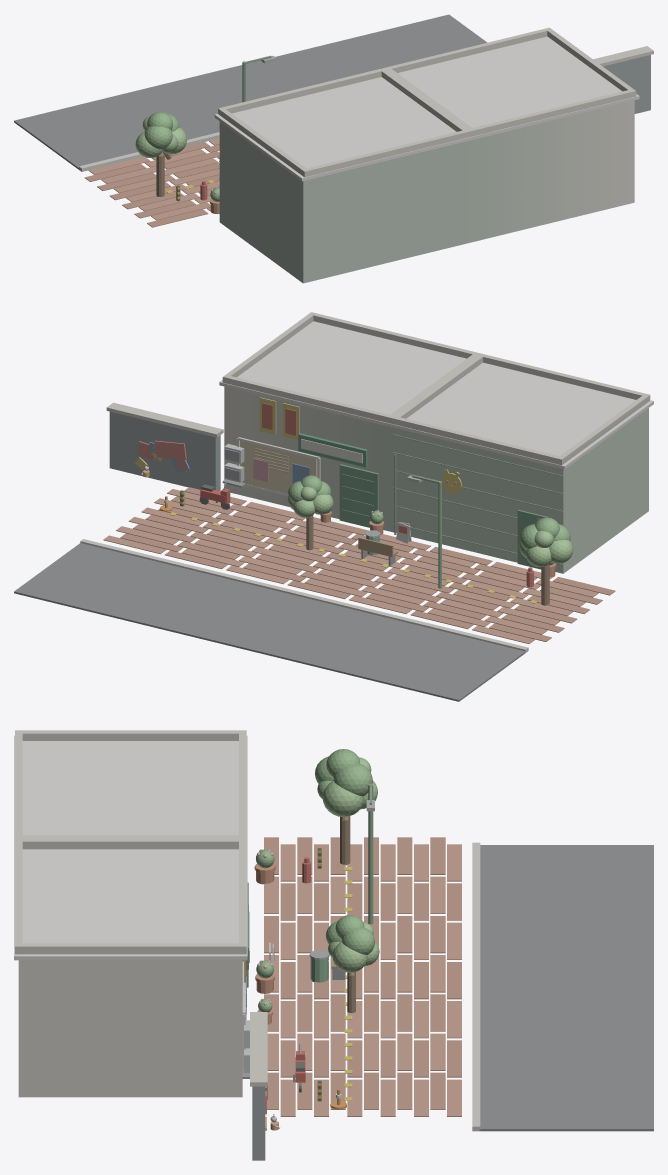
Rendered from bbq_08.glb.
3 renders of one model, top to bottom at view 1: azimuth 30°, elevation 25°; view 2: azimuth 150°, elevation 25°; view 3: azimuth 270°, elevation 25°, orthographic. The views are drawn at different scales.
Parts seen in each view (by area): view 1: geometry_0; view 2: geometry_0; view 3: geometry_0.
Part boxes in pixels (x1,y1,x2,y2): geometry_0: (14, 14, 653, 283); geometry_0: (14, 312, 653, 701); geometry_0: (14, 730, 653, 1160).
Bounding box in the file's own units: 23.95 × 5.2 × 20.
